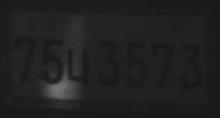3: (95, 39, 122, 87), (178, 41, 203, 90)
5: (124, 41, 147, 88), (41, 38, 64, 84)
7: (149, 41, 176, 90), (13, 36, 38, 82)
나: (65, 46, 92, 85)
